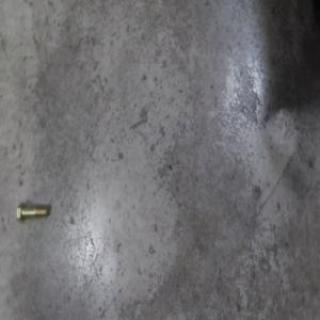Bolttrack_idkeyframe: (15, 200, 47, 223)
